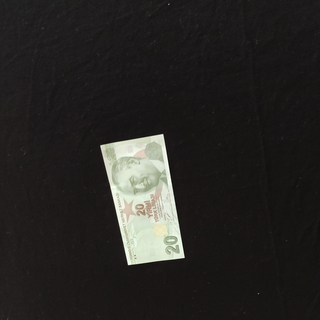20TLFront: (100, 133, 185, 264)
